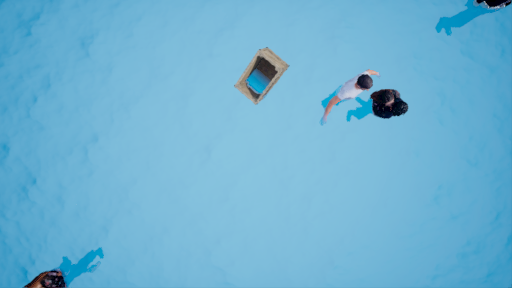person: (324, 66, 401, 135), (38, 253, 101, 287)
